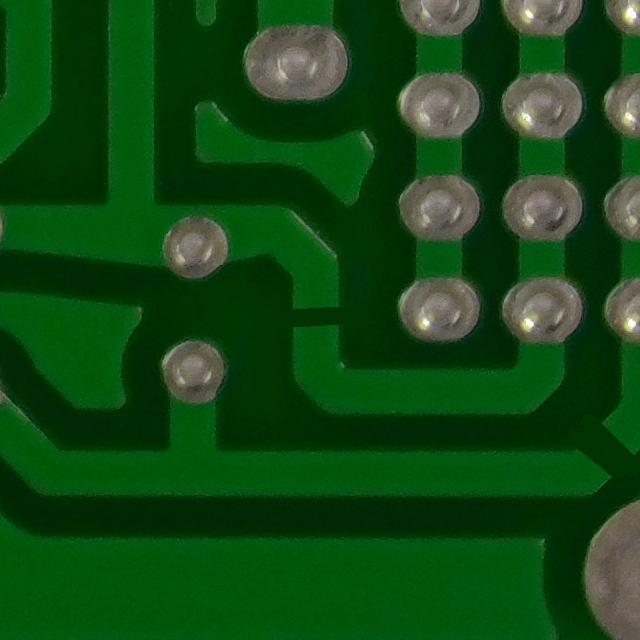open_circuit: (267, 283, 373, 357)
